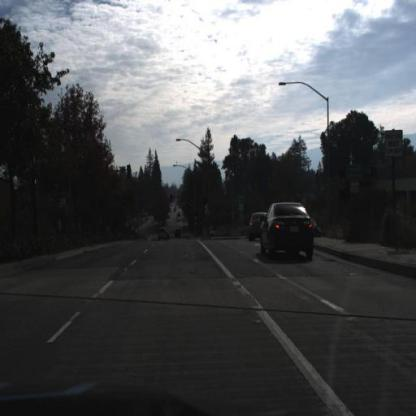car: (260, 200, 317, 264), (248, 205, 273, 249), (251, 211, 269, 243), (307, 213, 324, 241), (210, 224, 231, 241), (156, 225, 170, 243), (173, 227, 183, 240)
trafficLight-Green: (203, 194, 210, 215), (170, 195, 175, 209)
